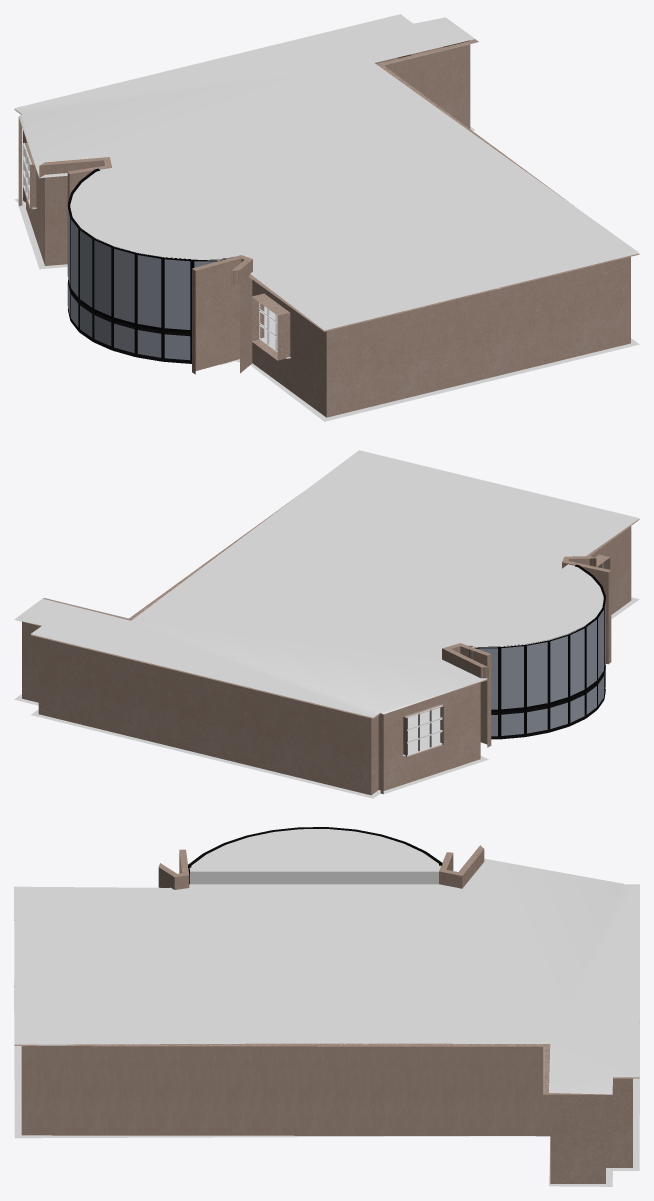
The model's file is Office1.fbx.
The picture shows the model from 3 angles, top to bottom: view 1: azimuth 30°, elevation 25°; view 2: azimuth 150°, elevation 25°; view 3: azimuth 270°, elevation 25°; orthographic projection. The views are drawn at different scales.
Visible parts, largest first — view 1: Office1Roof, Office1NewWalls, RoundWindowGlass, RoundWindowMetal, Office1Floor; view 2: Office1Roof, Office1NewWalls, RoundWindowGlass, RoundWindowMetal, Office1Floor, Office1Windows2; view 3: Office1Roof, Office1NewWalls, Office1Floor, RoundWindowMetal.
Part boxes in pixels (<box>): Office1Roof: <box>14,14,639,330</box>; Office1NewWalls: <box>14,39,639,417</box>; RoundWindowGlass: <box>67,207,217,360</box>; RoundWindowMetal: <box>67,168,226,363</box>; Office1Floor: <box>14,126,639,421</box>; Office1Roof: <box>14,450,639,717</box>; Office1NewWalls: <box>17,495,639,795</box>; RoundWindowGlass: <box>472,600,605,736</box>; RoundWindowMetal: <box>469,564,605,739</box>; Office1Floor: <box>14,597,639,798</box>; Office1Windows2: <box>403,704,442,756</box>; Office1Roof: <box>14,829,639,1094</box>; Office1NewWalls: <box>14,845,639,1183</box>; Office1Floor: <box>14,980,639,1186</box>; RoundWindowMetal: <box>188,827,442,884</box>.
Bounding box in the file's own units: 21.16 × 4.18 × 22.15.
